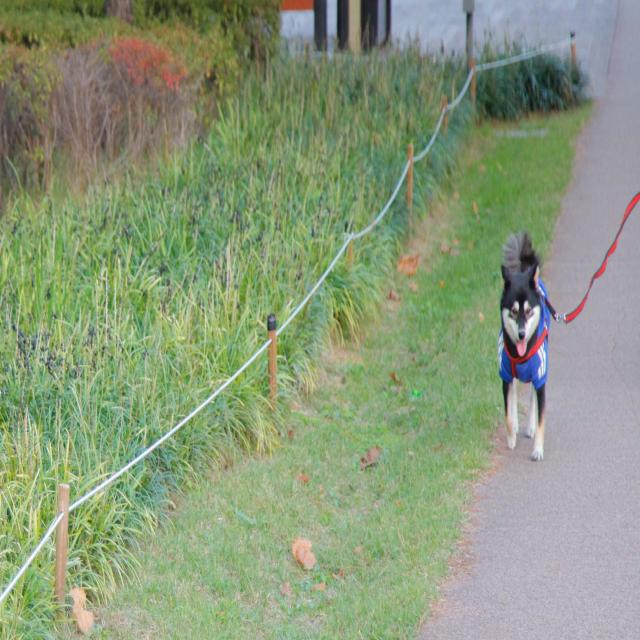Dog: (498, 229, 550, 462)
